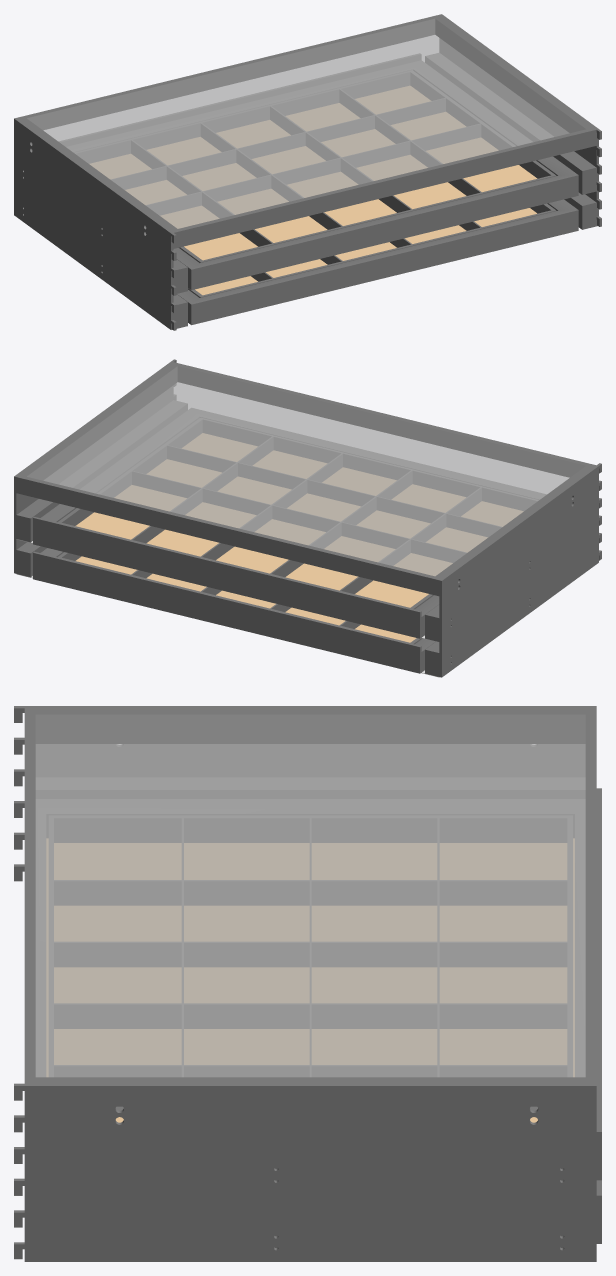
3 views of the same model, one above another, from view 1: azimuth 30°, elevation 25°; view 2: azimuth 150°, elevation 25°; view 3: azimuth 270°, elevation 25° (orthographic). The views are drawn at different scales.
Visible parts, largest first — view 1: Geom3D (×3); view 2: Geom3D (×3); view 3: Geom3D (×3).
Part boxes in pixels (box(x1,y1,x2,y2)): Geom3D (×3): box(14, 14, 601, 330); Geom3D (×3): box(14, 359, 601, 677); Geom3D (×3): box(14, 706, 601, 1261).
Bounding box in the file's own units: 0.8333 × 0.181 × 0.545.
